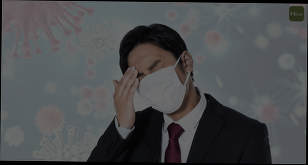with_mask: (132, 58, 189, 115)
